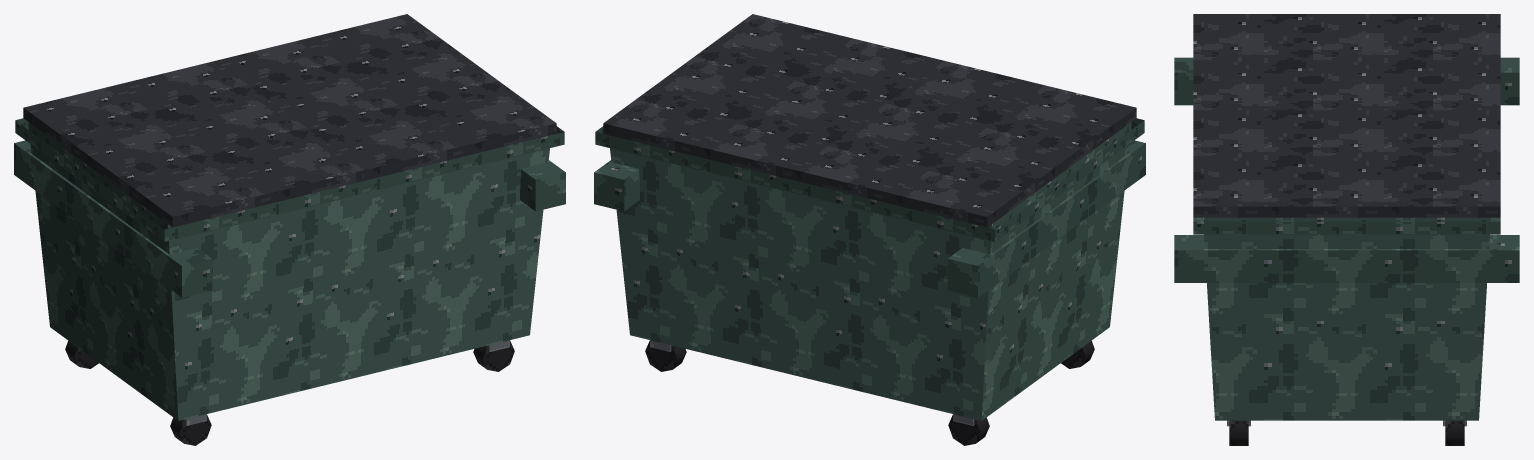
The model's file is SP_Dumpster.obj.
3 renders of one model, left to right at view 1: azimuth 30°, elevation 25°; view 2: azimuth 150°, elevation 25°; view 3: azimuth 270°, elevation 25°, orthographic. The views are drawn at different scales.
Parts seen in each view (by area): view 1: SP_Dumpster_Mesh_M_Town_PaintGreen, Lid_L_M_Town_PaintBlack, Lid_R_M_Town_PaintBlack, SP_Dumpster_Mesh_M_Furn_Rubber; view 2: SP_Dumpster_Mesh_M_Town_PaintGreen, Lid_L_M_Town_PaintBlack, Lid_R_M_Town_PaintBlack, SP_Dumpster_Mesh_M_Furn_Rubber; view 3: SP_Dumpster_Mesh_M_Town_PaintGreen, Lid_R_M_Town_PaintBlack, Lid_L_M_Town_PaintBlack, SP_Dumpster_Mesh_M_Furn_Rubber.
Part boxes in pixels (x1,y1,x2,y2): SP_Dumpster_Mesh_M_Town_PaintGreen: (14, 118, 565, 420); Lid_L_M_Town_PaintBlack: (23, 61, 364, 227); Lid_R_M_Town_PaintBlack: (215, 14, 556, 180); SP_Dumpster_Mesh_M_Furn_Rubber: (65, 340, 514, 445); SP_Dumpster_Mesh_M_Town_PaintGreen: (594, 118, 1145, 420); Lid_L_M_Town_PaintBlack: (795, 61, 1136, 227); Lid_R_M_Town_PaintBlack: (603, 14, 944, 180); SP_Dumpster_Mesh_M_Furn_Rubber: (645, 340, 1094, 445); SP_Dumpster_Mesh_M_Town_PaintGreen: (1174, 57, 1519, 420); Lid_R_M_Town_PaintBlack: (1193, 110, 1500, 217); Lid_L_M_Town_PaintBlack: (1193, 14, 1500, 110); SP_Dumpster_Mesh_M_Furn_Rubber: (1229, 420, 1464, 445).
Bounding box in the file's own units: 1.98 × 1.19 × 1.44.
Materials: 5 (5 with a texture image).
